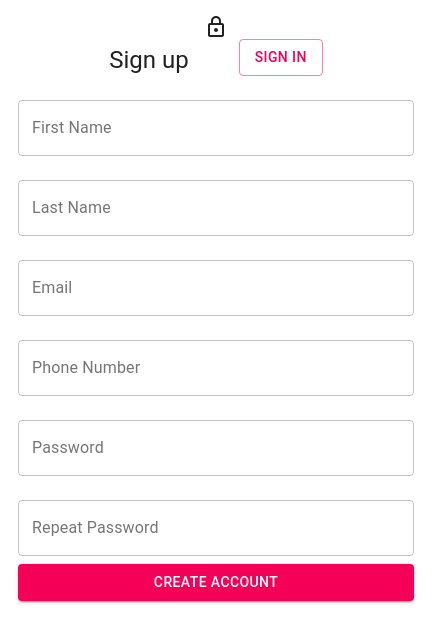
Test: <ProfilePage /> › should render sign in form.
Click the button with id "signIn".
click(281, 57)  # box [239,39,323,76]
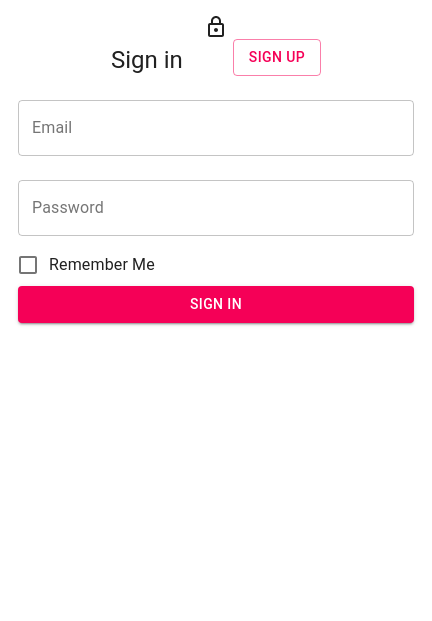
Expected: the button with id "signUp" is shown, [233,39,321,76]
Expected: the checkbox with id "rememberMe" is shown, [16,253,155,277]
